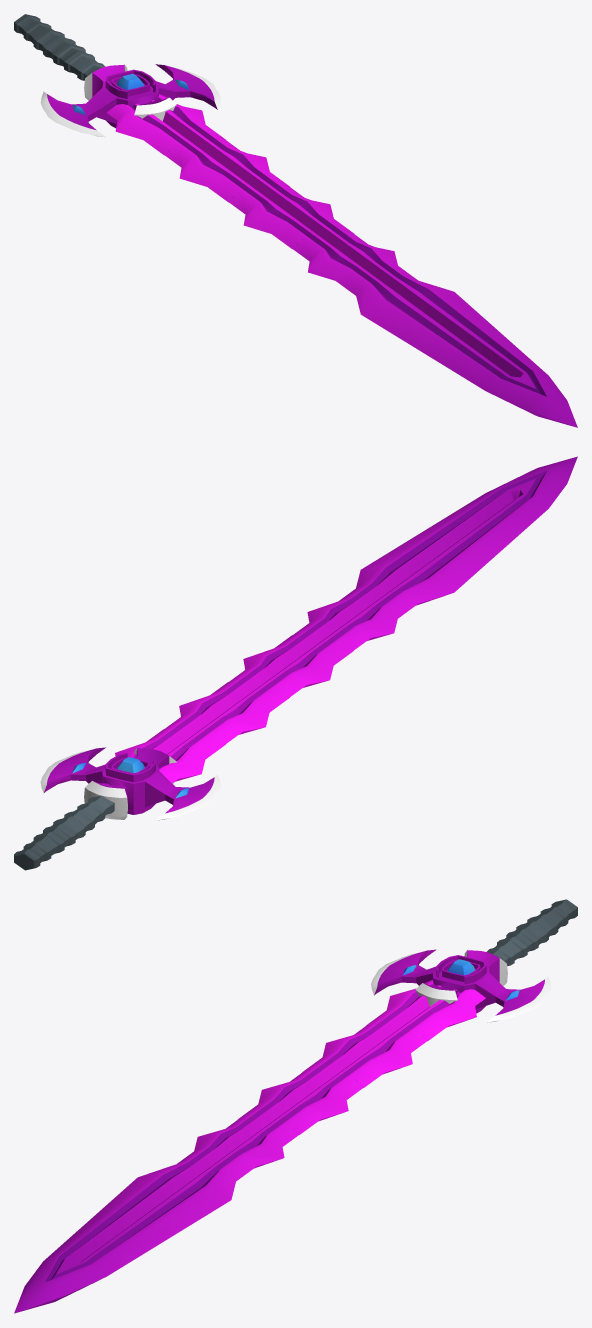
File: 79_knife_5.fbx
The picture shows the model from 3 angles, top to bottom: view 1: azimuth 30°, elevation 25°; view 2: azimuth 150°, elevation 25°; view 3: azimuth 330°, elevation 25°; orthographic projection.
Parts seen in each view (by area): view 1: 79_knife_5; view 2: 79_knife_5; view 3: 79_knife_5.
Boxes of the visible parts, x1,y1,x2,y2 form: 79_knife_5: (14, 14, 577, 427); 79_knife_5: (14, 456, 577, 870); 79_knife_5: (14, 899, 577, 1313).
Size of the model in its own units: 87 by 24.76 by 529.
